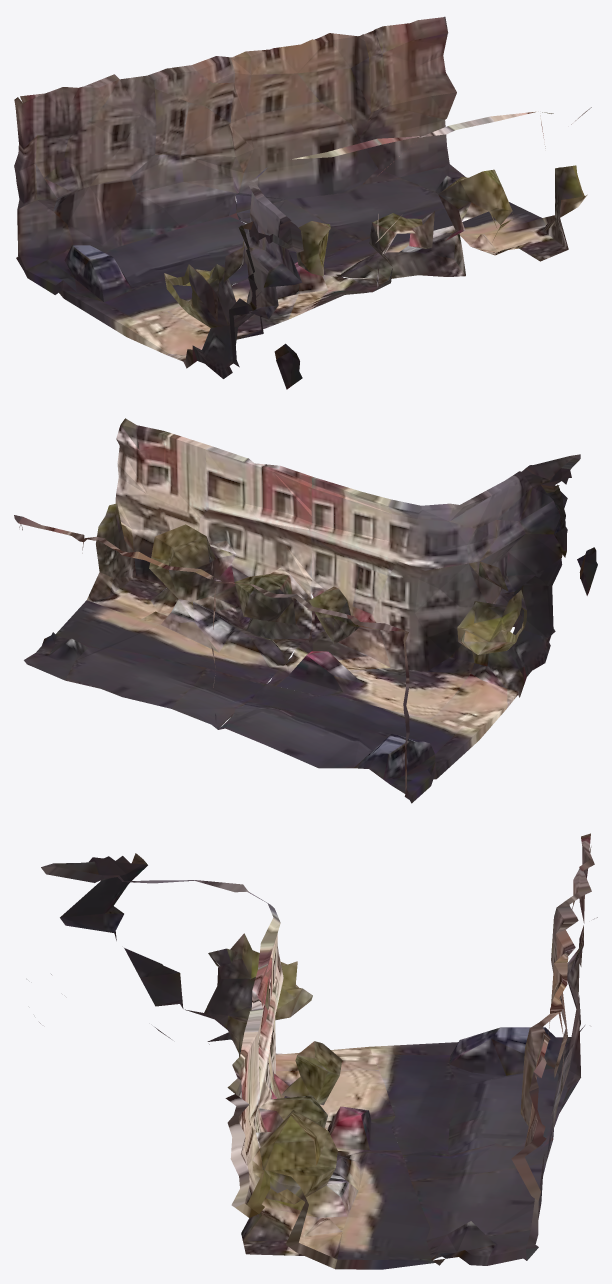
3 views of the same model, one above another, from view 1: azimuth 30°, elevation 25°; view 2: azimuth 150°, elevation 25°; view 3: azimuth 270°, elevation 25° (orthographic). The views are drawn at different scales.
Visible parts, largest first — view 1: Mesh_0; view 2: Mesh_0; view 3: Mesh_0.
Part boxes in pixels (x1,y1,x2,y2): Mesh_0: (14,16,591,389); Mesh_0: (14,418,597,803); Mesh_0: (39,833,597,1269).
Bounding box in the file's own units: 31.58 × 12.53 × 30.58.
1 material, 1 textured.
